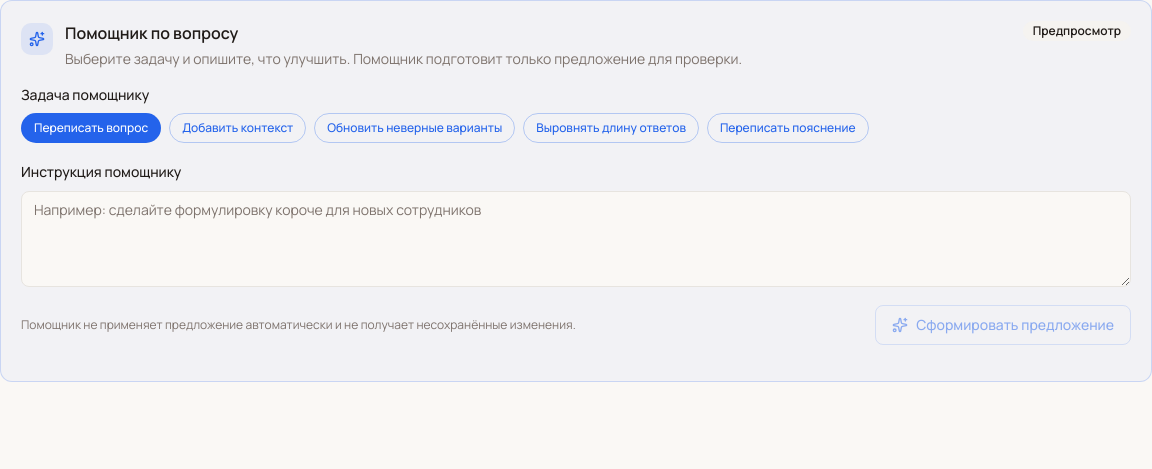
Test: QuestionAssistantPreview › shows actionable safe HTTP 401 copy once
The image size is (1152, 469).
In the text box labelled "Инструкция помощнику": (576, 239) [21, 191, 1131, 287], type "Улучши вопрос"
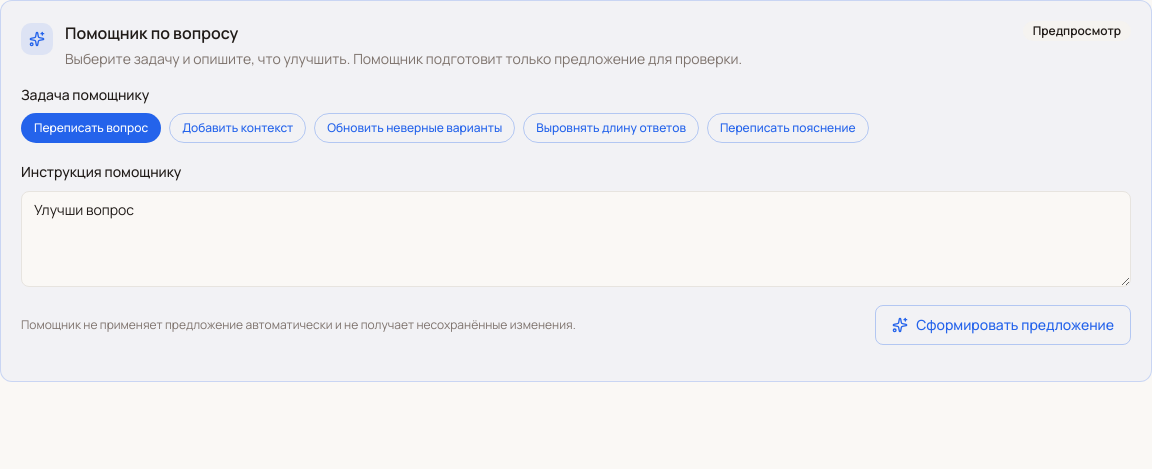
Click the button with aria-label "Сформировать предложение помощника": (1003, 325) [875, 305, 1131, 345]
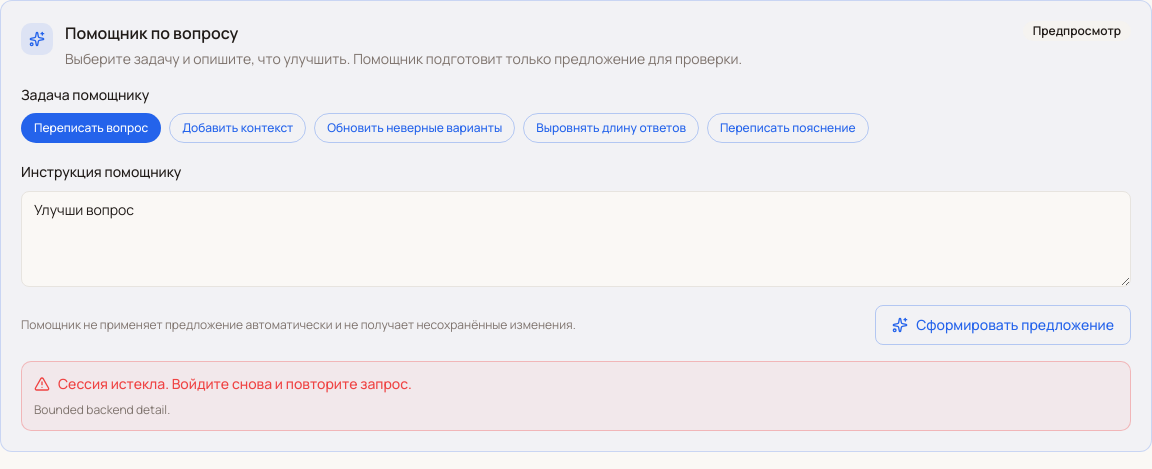
Check: the message shows "Сессия истекла", box [58, 374, 412, 393]
